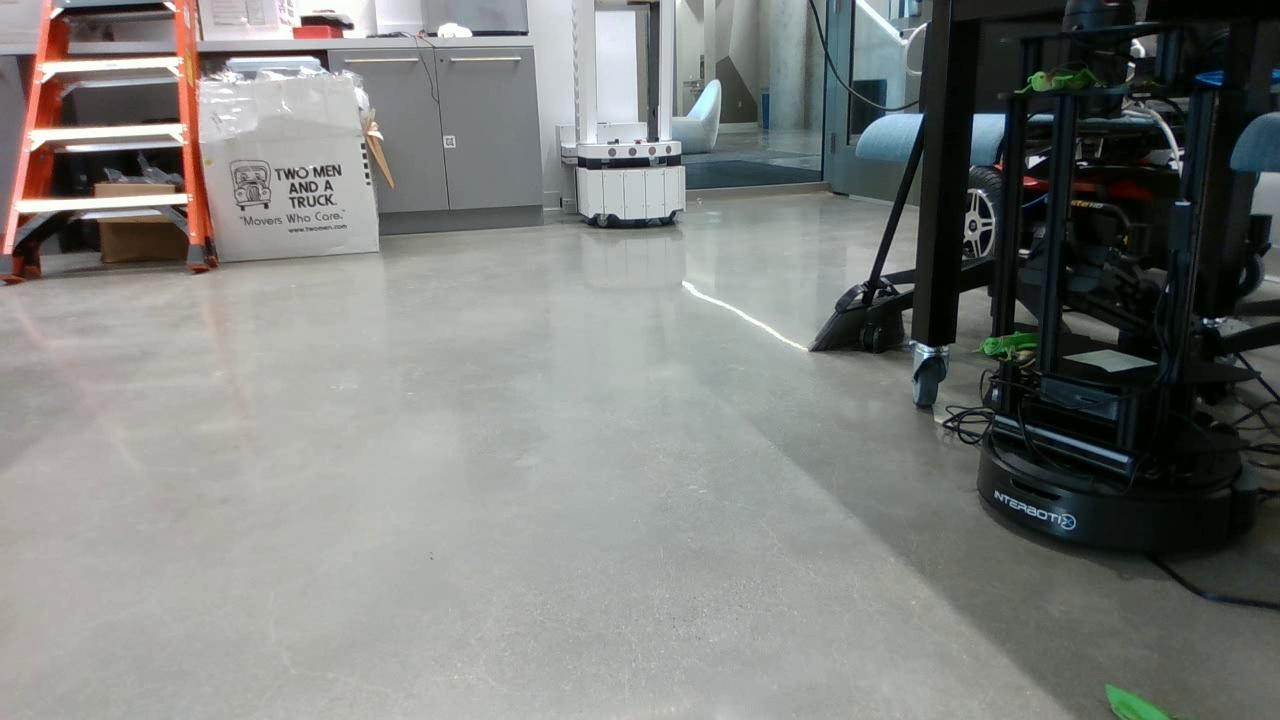grasshopper: (1102, 676, 1183, 720), (976, 323, 1040, 358), (1020, 65, 1099, 93)
